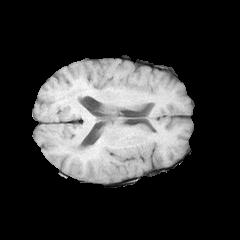glioma: (67, 143, 147, 181)
